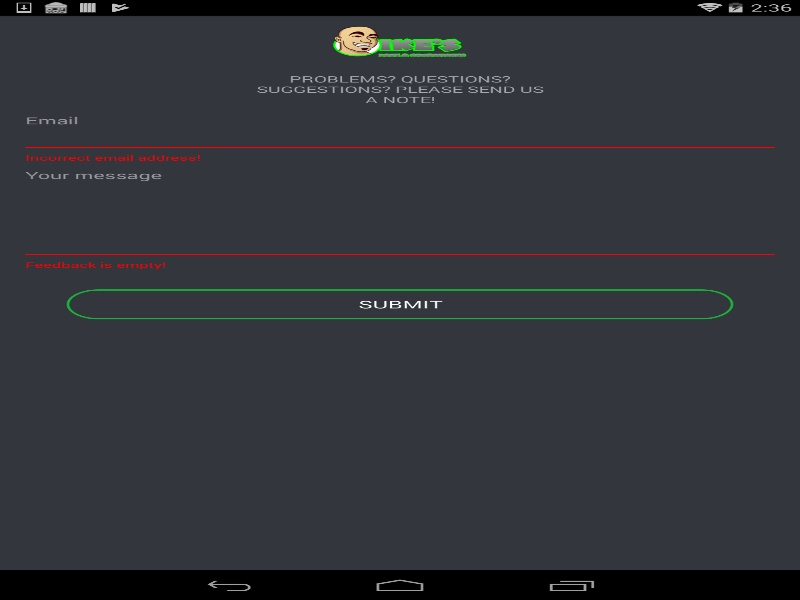Button: (66, 289, 733, 319)
Input: (20, 178, 780, 259), (20, 124, 780, 152)
